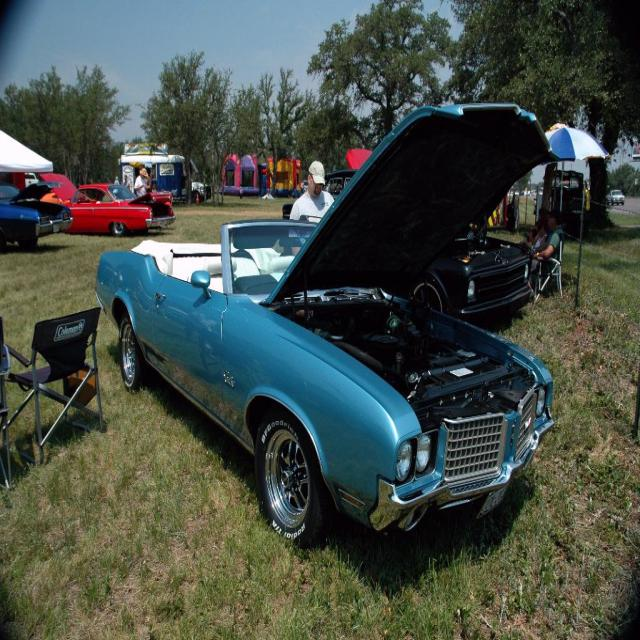car: (91, 96, 555, 550)
